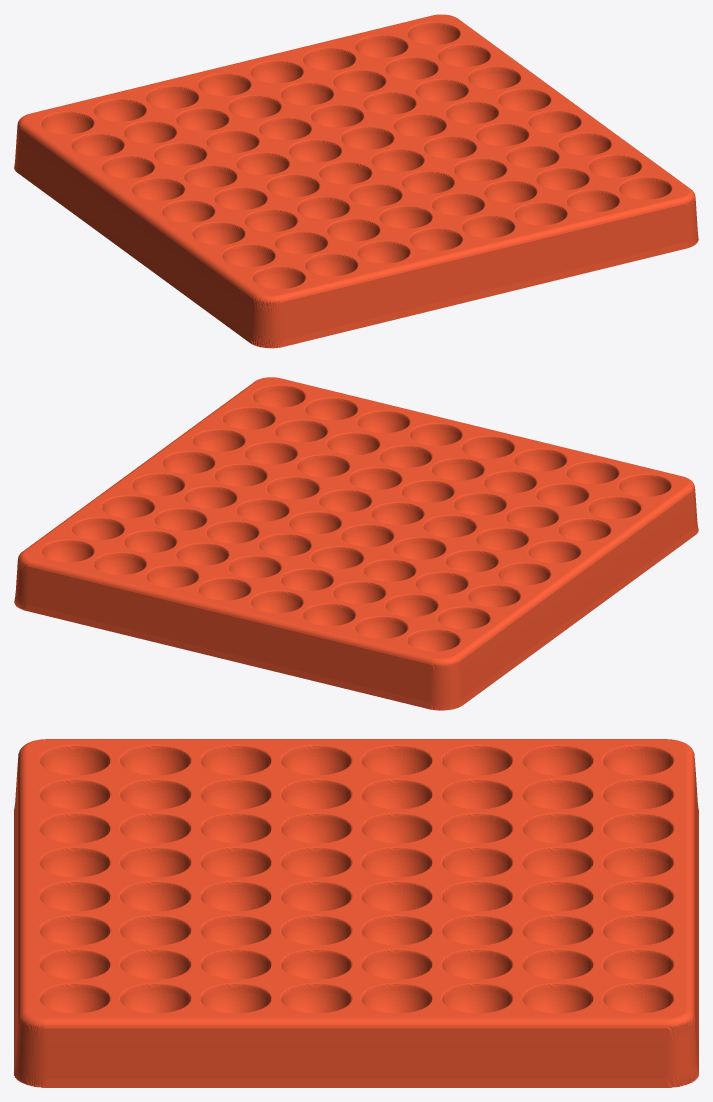
File: mold.glb
3 views of the same model, one above another, from view 1: azimuth 30°, elevation 25°; view 2: azimuth 150°, elevation 25°; view 3: azimuth 270°, elevation 25° (orthographic). The views are drawn at different scales.
Parts seen in each view (by area): view 1: geometry_0; view 2: geometry_0; view 3: geometry_0.
Boxes of the visible parts, box(x1,y1,x2,y2) form: geometry_0: box(14, 14, 698, 348); geometry_0: box(14, 377, 698, 710); geometry_0: box(14, 739, 698, 1087).
Bounding box in the file's own units: 0.1886 × 0.0194 × 0.1886.
